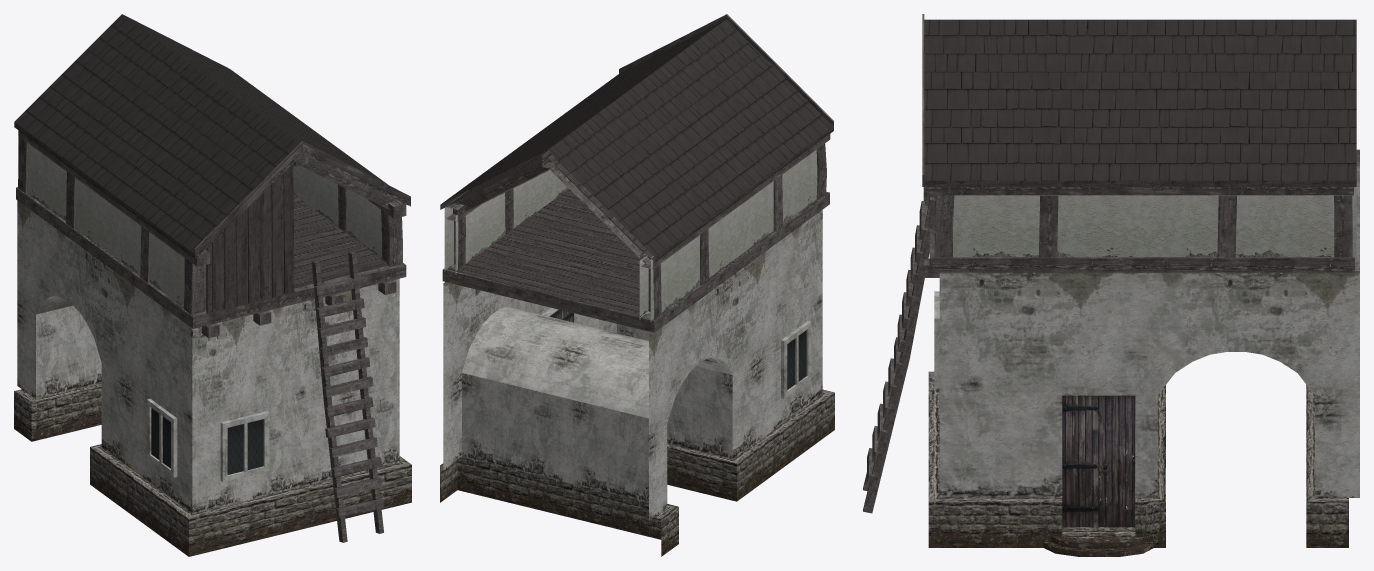
The model's file is poorfolks_urban_housing_side.FBX.
3 renders of one model, left to right at view 1: azimuth 30°, elevation 25°; view 2: azimuth 150°, elevation 25°; view 3: azimuth 270°, elevation 25°, orthographic. The views are drawn at different scales.
Visible parts, largest first — view 1: poorfolks_house_side_storage; view 2: poorfolks_house_side_storage; view 3: poorfolks_house_side_storage.
Boxes of the visible parts, x1,y1,x2,y2 form: poorfolks_house_side_storage: (14,14,411,556); poorfolks_house_side_storage: (440,14,834,556); poorfolks_house_side_storage: (863,14,1359,556).
Bounding box in the file's own units: 423 × 635 × 661.
